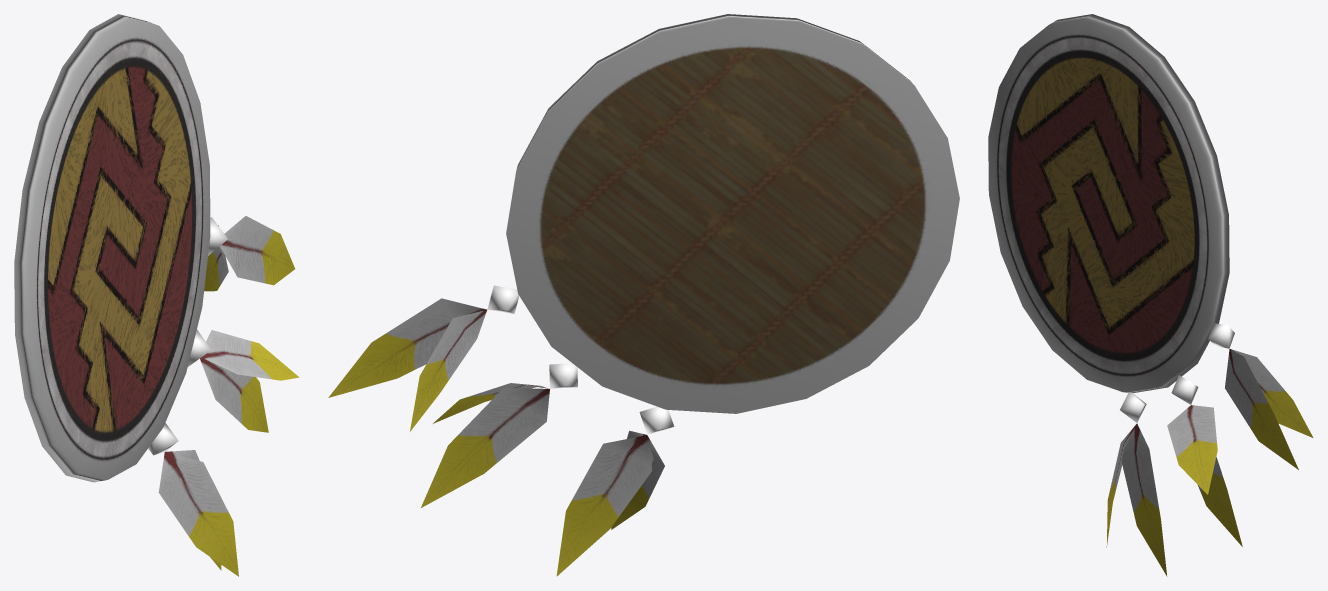
Rendered from shield-ceremonialshields.glb.
3 renders of one model, left to right at view 1: azimuth 30°, elevation 25°; view 2: azimuth 150°, elevation 25°; view 3: azimuth 270°, elevation 25°, orthographic. The views are drawn at different scales.
Bounding box in the file's own units: 0.795 × 0.9727 × 0.588.
Materials: 1 (1 with a texture image).
